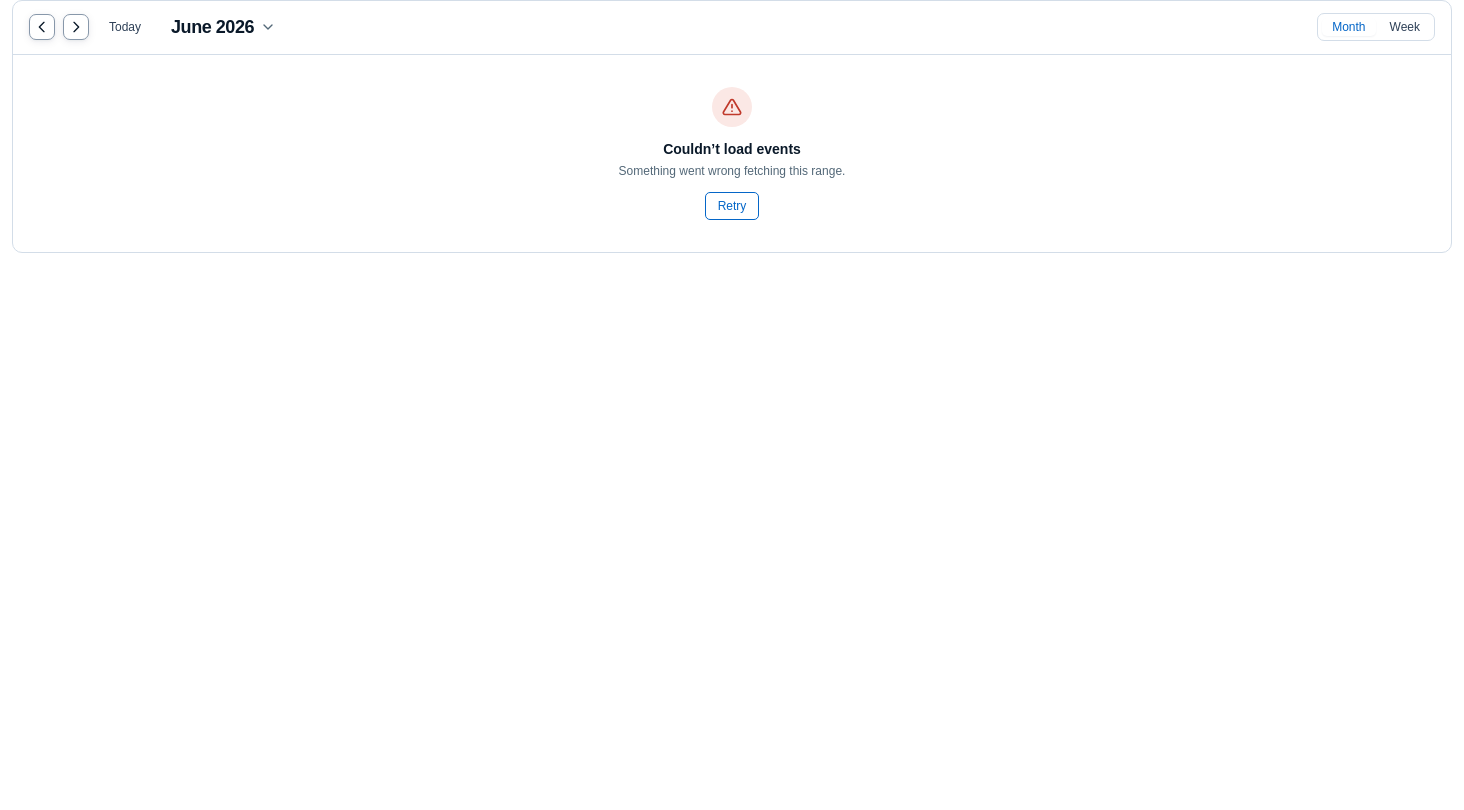
Test: Scheduler › surfaces a load error with a retry that refetches
Expected: the text "Couldn’t load events" is shown, [663,141,801,157]
Click the button "Retry" at (732, 206), box [705,192,759,220]
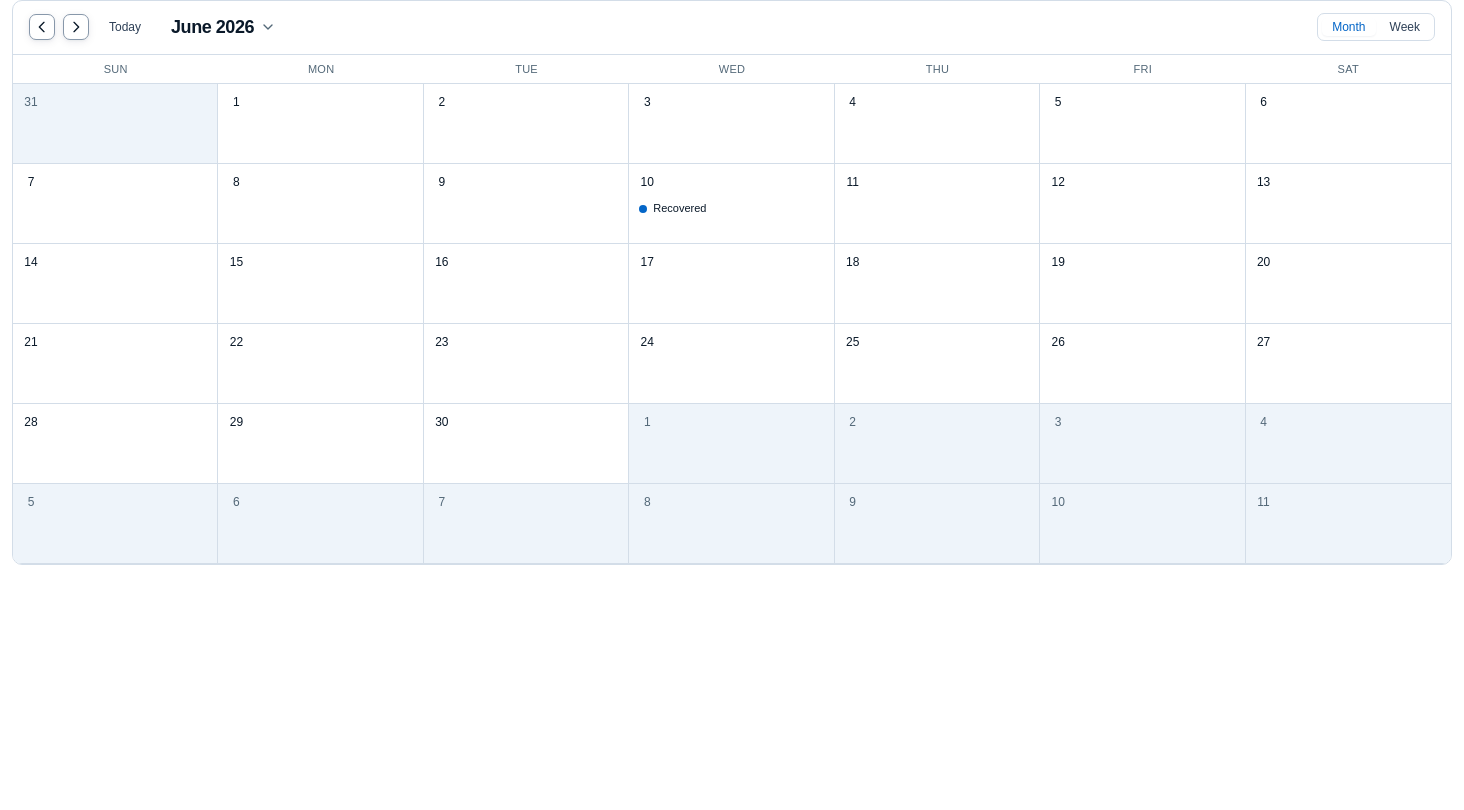
Now the text "Recovered" is shown, box [653,200,706,217]
